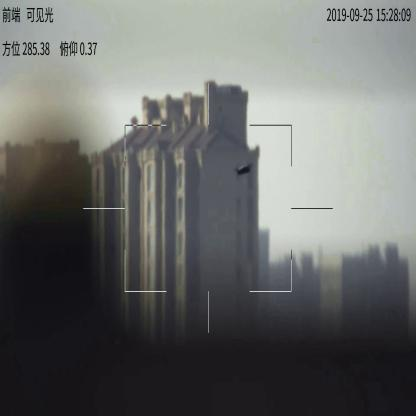uav: (233, 163, 252, 178)
